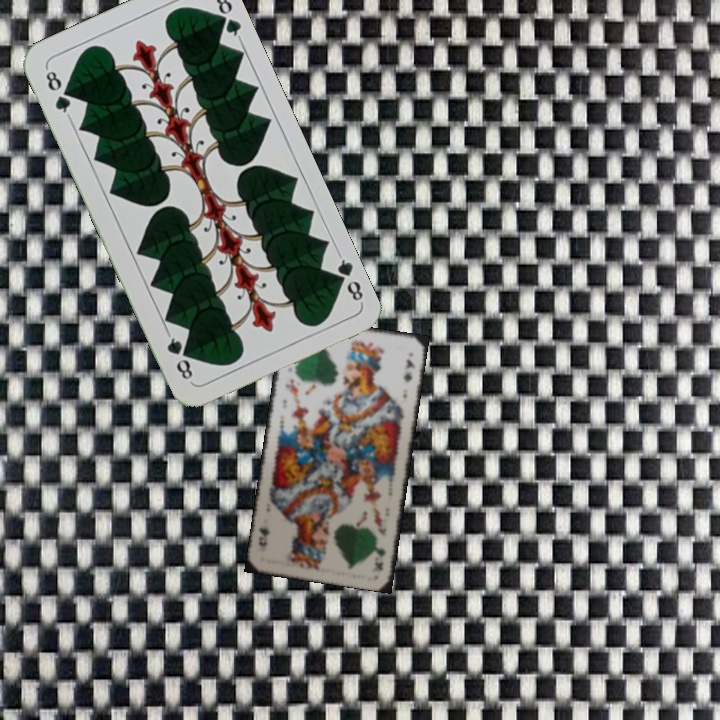G8: (328, 250, 367, 305), (41, 64, 73, 120)
GK: (370, 542, 388, 575)
